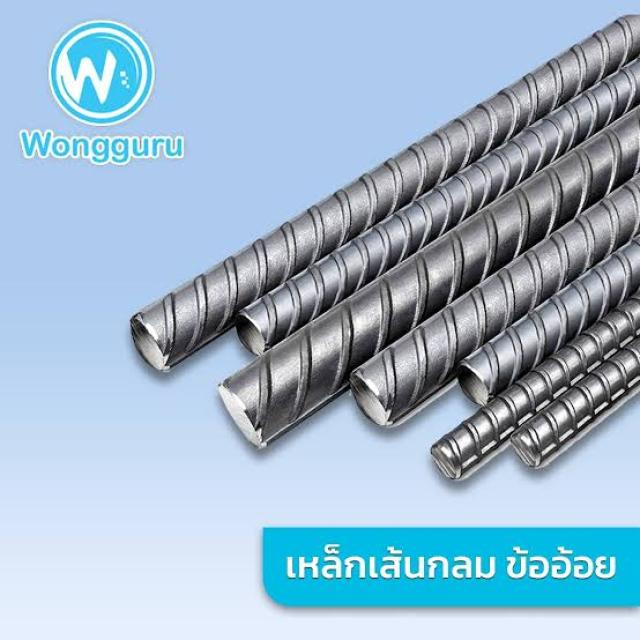Rebar: (213, 381, 272, 458), (343, 366, 393, 445), (129, 318, 174, 379), (446, 353, 490, 413), (236, 305, 266, 366), (434, 442, 464, 498), (510, 427, 537, 487)
